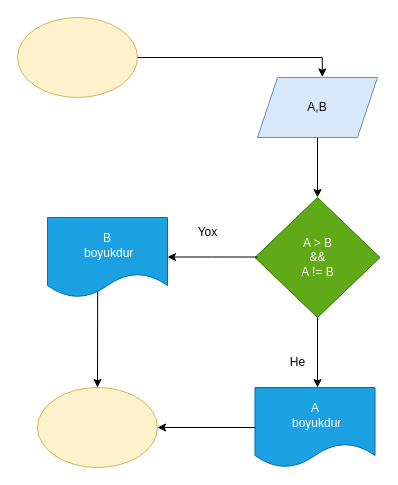
Image size: 398x485. Some labels were removed from this diagram. The centre of each missing label's shape, as x and y in pixels:
"End" goes at [97,427].
"Start" goes at [77,57].
